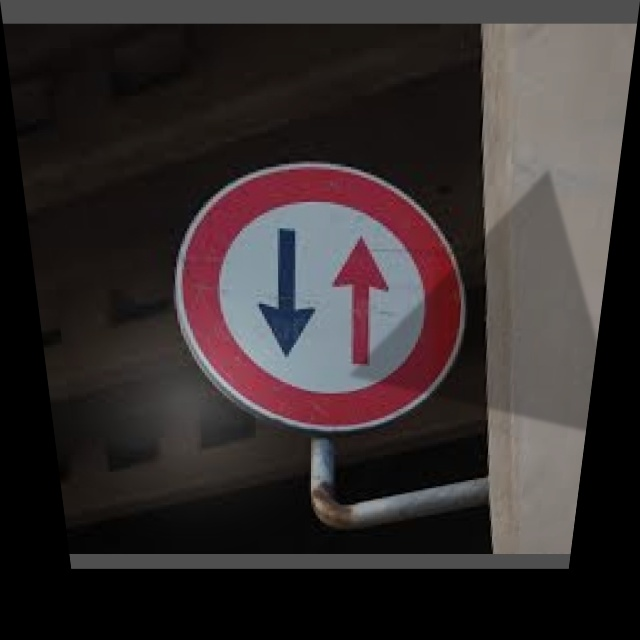Mandatory_Two_Way_Traffic: (169, 164, 491, 424)
